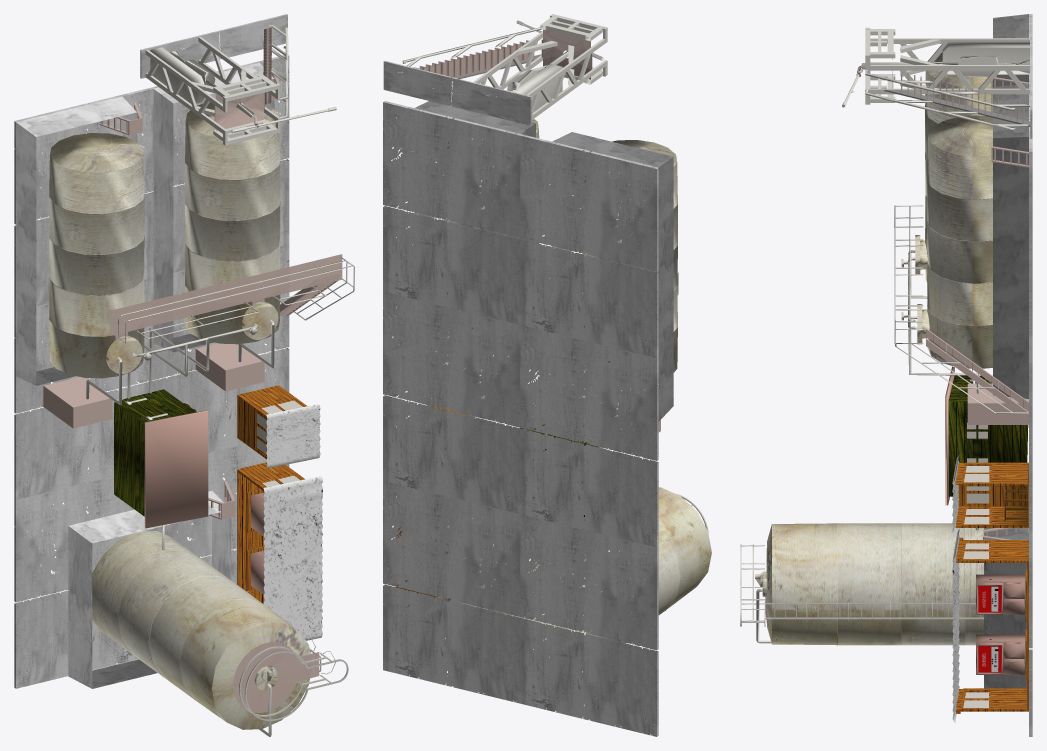
The model's file is factoryneft.fbx.
3 renders of one model, left to right at view 1: azimuth 30°, elevation 25°; view 2: azimuth 150°, elevation 25°; view 3: azimuth 270°, elevation 25°, orthographic. The views are drawn at different scales.
Parts seen in each view (by area): view 1: diesfloo, diesvert, dieshor, dieswall, dieshor1, diesplat, diescel1, diescell, diestowe, diesnohu, diesrehu, diesflot (+12 smaller); view 2: diesfloo, dieswall, diesvert, diestowe, diesflot, diesstt, dieshor, diesTor2; view 3: diesvert, dieshor1, dieswall, diesnohu, diestowe, diesrehu, diespump, diesfloo, dieshor, dieswind, diesplat, dieshar1 (+12 smaller).
Part boxes in pixels (bbox=[...]): diesfloo: bbox=[14, 55, 289, 688]; diesvert: bbox=[92, 531, 310, 729]; dieshor: bbox=[49, 133, 144, 378]; dieswall: bbox=[16, 63, 274, 688]; dieshor1: bbox=[185, 102, 280, 344]; diesplat: bbox=[110, 254, 342, 712]; diescel1: bbox=[263, 476, 322, 640]; diescell: bbox=[144, 410, 208, 528]; diestowe: bbox=[145, 23, 288, 145]; diesnohu: bbox=[237, 385, 307, 603]; diesrehu: bbox=[114, 389, 195, 516]; diesflot: bbox=[140, 14, 287, 78]; diesfloo: bbox=[383, 101, 658, 736]; dieswall: bbox=[414, 101, 673, 716]; diesvert: bbox=[487, 487, 711, 667]; diestowe: bbox=[402, 14, 607, 119]; diesflot: bbox=[383, 61, 531, 125]; diesstt: bbox=[413, 29, 592, 84]; dieshor: bbox=[582, 140, 677, 373]; diesTor2: bbox=[513, 64, 562, 112]; diesvert: bbox=[755, 523, 1028, 645]; dieshor1: bbox=[917, 115, 992, 368]; dieswall: bbox=[984, 14, 1028, 688]; diesnohu: bbox=[955, 462, 1028, 713]; diestowe: bbox=[865, 27, 1029, 130]; diesrehu: bbox=[948, 375, 1028, 496]; diespump: bbox=[976, 574, 1025, 674]; diesfloo: bbox=[1029, 14, 1032, 736]; dieshor: bbox=[915, 52, 992, 282]; dieswind: bbox=[963, 422, 989, 707]; diesplat: bbox=[765, 328, 1028, 622]; dieshar1: bbox=[894, 205, 1028, 413].
Size of the model in its own units: 20.37 by 43.65 by 18.15.
23 materials, 13 textured.
